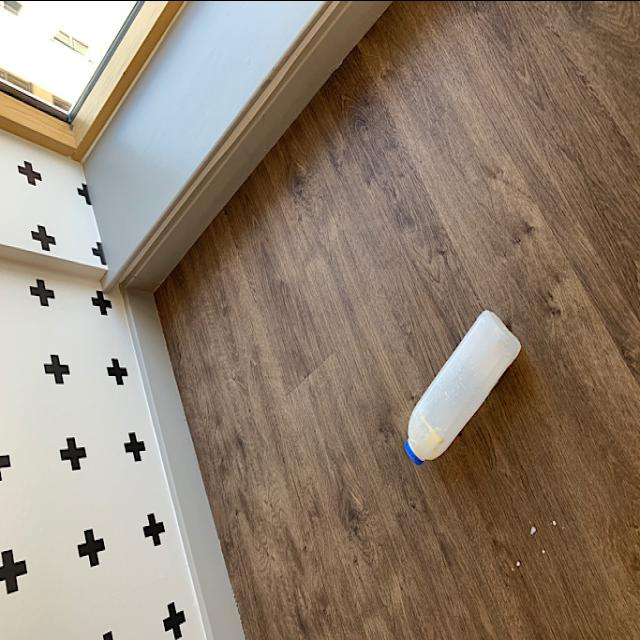HDPEM: (404, 305, 522, 466)
